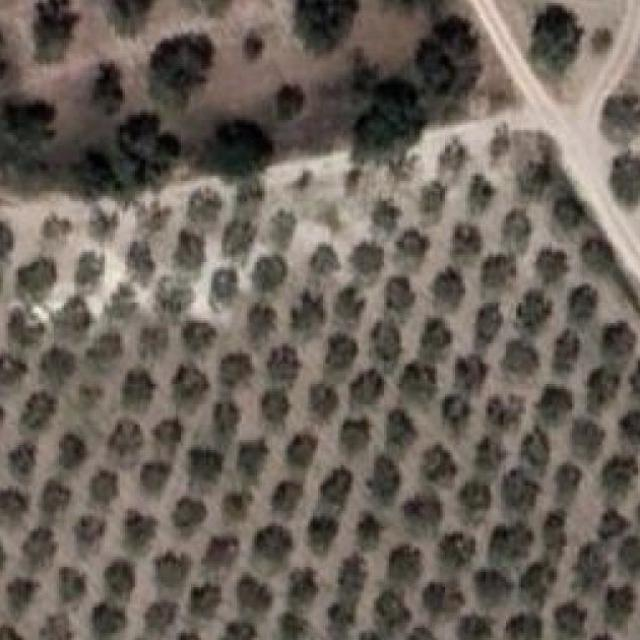Tree: (71, 113, 178, 192), (352, 77, 427, 163), (414, 16, 480, 99), (148, 34, 214, 108), (203, 123, 272, 179), (0, 94, 54, 164), (528, 6, 582, 75), (296, 0, 356, 52), (35, 0, 79, 62), (601, 90, 640, 146), (511, 154, 556, 202), (609, 148, 640, 209), (487, 523, 531, 564), (16, 257, 56, 301), (501, 467, 539, 513), (597, 453, 636, 497), (90, 64, 122, 116), (401, 493, 442, 533), (365, 455, 399, 503), (237, 574, 272, 620), (574, 545, 607, 592), (586, 366, 620, 411), (54, 295, 92, 335), (518, 562, 554, 604), (109, 0, 152, 35), (253, 526, 293, 563), (517, 291, 552, 333), (154, 277, 191, 316), (472, 570, 511, 607), (172, 366, 208, 406), (398, 362, 435, 400), (290, 291, 323, 333), (122, 511, 155, 553), (7, 308, 44, 345), (20, 392, 56, 430), (374, 590, 409, 629), (422, 582, 462, 616), (21, 529, 56, 567), (187, 189, 221, 228), (40, 346, 74, 385), (122, 369, 155, 409), (603, 585, 633, 628), (502, 209, 531, 253), (431, 267, 462, 308), (319, 467, 350, 508), (573, 420, 604, 461), (502, 341, 538, 376), (421, 445, 455, 482), (386, 545, 420, 582), (543, 511, 567, 563), (172, 229, 203, 269), (580, 237, 615, 272), (537, 389, 572, 424), (350, 511, 384, 547), (439, 531, 472, 568), (324, 600, 357, 637), (126, 242, 155, 284), (266, 347, 300, 382), (370, 320, 399, 361), (521, 428, 550, 469), (454, 357, 486, 394), (553, 602, 584, 640), (107, 422, 140, 457), (136, 201, 171, 234), (601, 323, 633, 359), (476, 303, 501, 349), (253, 255, 284, 292), (105, 560, 135, 598), (188, 448, 221, 482), (349, 369, 381, 404), (106, 284, 137, 320), (326, 333, 356, 370), (308, 516, 338, 553), (568, 286, 597, 324), (385, 409, 414, 447), (337, 555, 369, 589), (171, 496, 201, 532), (41, 481, 71, 517), (557, 463, 582, 506), (269, 211, 295, 252), (182, 323, 216, 354), (553, 196, 584, 230), (395, 229, 430, 259), (339, 417, 369, 452), (386, 277, 415, 313), (438, 137, 467, 173), (74, 513, 103, 549), (555, 331, 579, 374), (154, 555, 186, 587), (202, 536, 234, 568), (284, 435, 315, 468), (488, 399, 521, 430), (260, 389, 290, 423), (89, 469, 118, 504), (289, 570, 318, 605), (442, 394, 470, 430), (59, 433, 87, 469), (86, 333, 122, 361), (272, 481, 303, 513), (334, 287, 364, 320), (467, 176, 493, 214), (475, 438, 504, 472), (485, 257, 516, 288), (350, 245, 381, 276), (221, 357, 252, 388), (152, 416, 183, 447), (534, 252, 564, 284), (420, 318, 450, 350), (93, 607, 125, 637), (310, 384, 338, 418), (212, 270, 237, 308), (458, 481, 488, 512), (237, 440, 262, 477), (248, 305, 274, 340), (213, 403, 239, 438), (58, 567, 84, 602), (275, 84, 300, 120), (308, 244, 338, 274), (370, 201, 399, 232), (147, 602, 176, 633), (88, 209, 117, 239), (189, 585, 216, 617), (7, 443, 34, 474), (0, 490, 27, 521), (601, 509, 628, 540), (140, 328, 166, 360), (225, 221, 249, 255), (0, 353, 26, 384), (39, 614, 70, 640), (8, 582, 36, 610), (280, 612, 308, 640), (505, 617, 539, 640), (619, 536, 640, 573), (421, 181, 445, 213), (78, 255, 102, 286), (454, 227, 481, 254), (142, 465, 167, 494), (458, 617, 488, 640), (243, 30, 264, 61), (224, 494, 247, 521), (620, 412, 640, 440), (78, 387, 102, 409), (591, 28, 613, 52), (224, 622, 252, 640), (0, 222, 13, 259), (45, 220, 69, 240), (630, 357, 640, 395), (0, 625, 24, 640), (406, 628, 435, 640), (174, 628, 201, 640), (354, 633, 392, 640), (585, 635, 616, 640)
